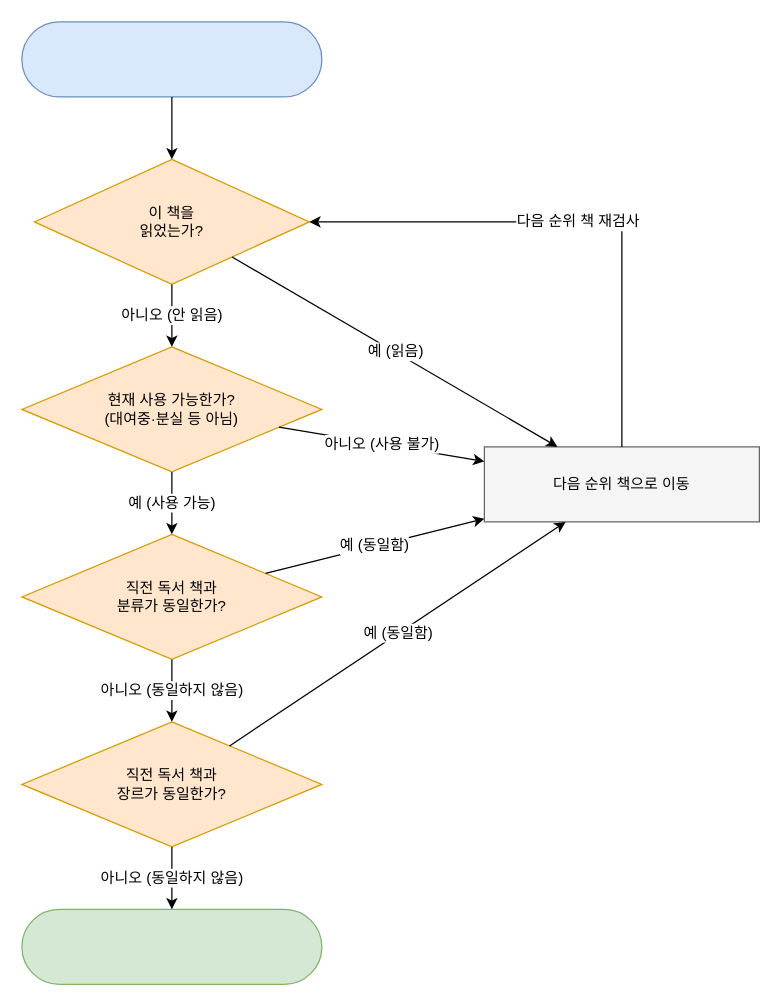
This 781x1006 diagram has some shape labels left out. Here are the shapes that lost their labels. From the top down, the box of each, then its label:
(21, 21, 322, 97): 학년별 권장도서 순위 최상위 책부터 시작
(21, 908, 322, 984): 이 책을 추천 도서로 확정
